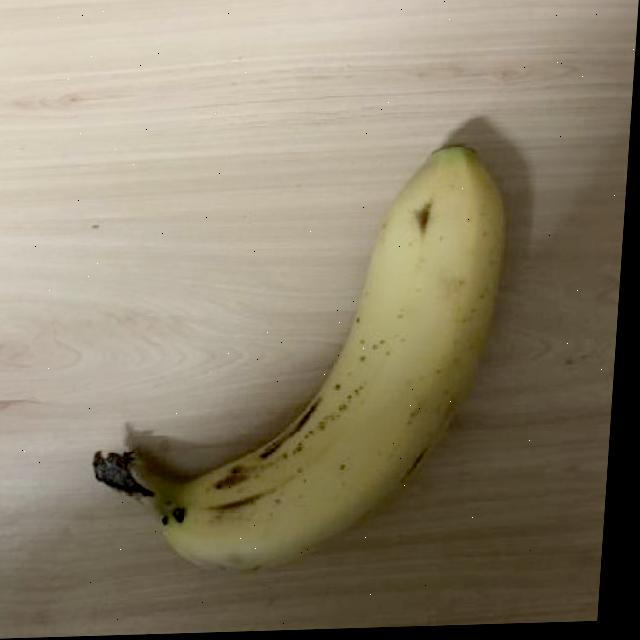banana: (80, 128, 522, 576)
